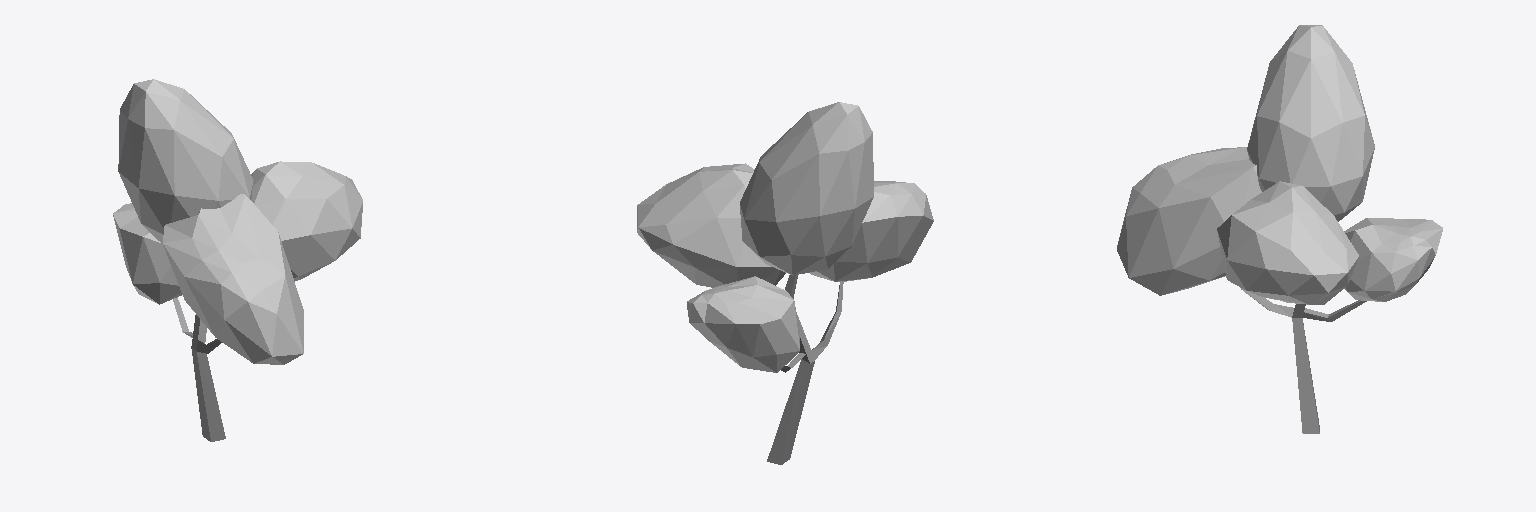
Rendered from BirchTree.obj.
3 renders of one model, left to right at view 1: azimuth 30°, elevation 25°; view 2: azimuth 150°, elevation 25°; view 3: azimuth 270°, elevation 25°, orthographic.
Visible parts, largest first — view 1: Icosphere.001, Icosphere, Icosphere.002, Icosphere.003, Cube; view 2: Icosphere, Icosphere.002, Icosphere.003, Icosphere.001, Cube; view 3: Icosphere, Icosphere.001, Icosphere.002, Icosphere.003, Cube.
Boxes of the visible parts, x1=… form: Icosphere.001: x1=163, y1=194, x2=303, y2=364; Icosphere: x1=118, y1=79, x2=253, y2=243; Icosphere.002: x1=251, y1=161, x2=362, y2=281; Icosphere.003: x1=113, y1=203, x2=181, y2=304; Cube: x1=173, y1=297, x2=225, y2=441; Icosphere: x1=740, y1=102, x2=873, y2=275; Icosphere.002: x1=637, y1=163, x2=785, y2=287; Icosphere.003: x1=687, y1=276, x2=799, y2=372; Icosphere.001: x1=810, y1=181, x2=933, y2=281; Cube: x1=767, y1=275, x2=843, y2=464; Icosphere: x1=1247, y1=25, x2=1374, y2=221; Icosphere.001: x1=1117, y1=147, x2=1261, y2=295; Icosphere.002: x1=1217, y1=181, x2=1358, y2=304; Icosphere.003: x1=1344, y1=218, x2=1442, y2=301; Cube: x1=1240, y1=287, x2=1366, y2=433.
Size of the model in its own units: 0.8119 by 1.28 by 1.01.